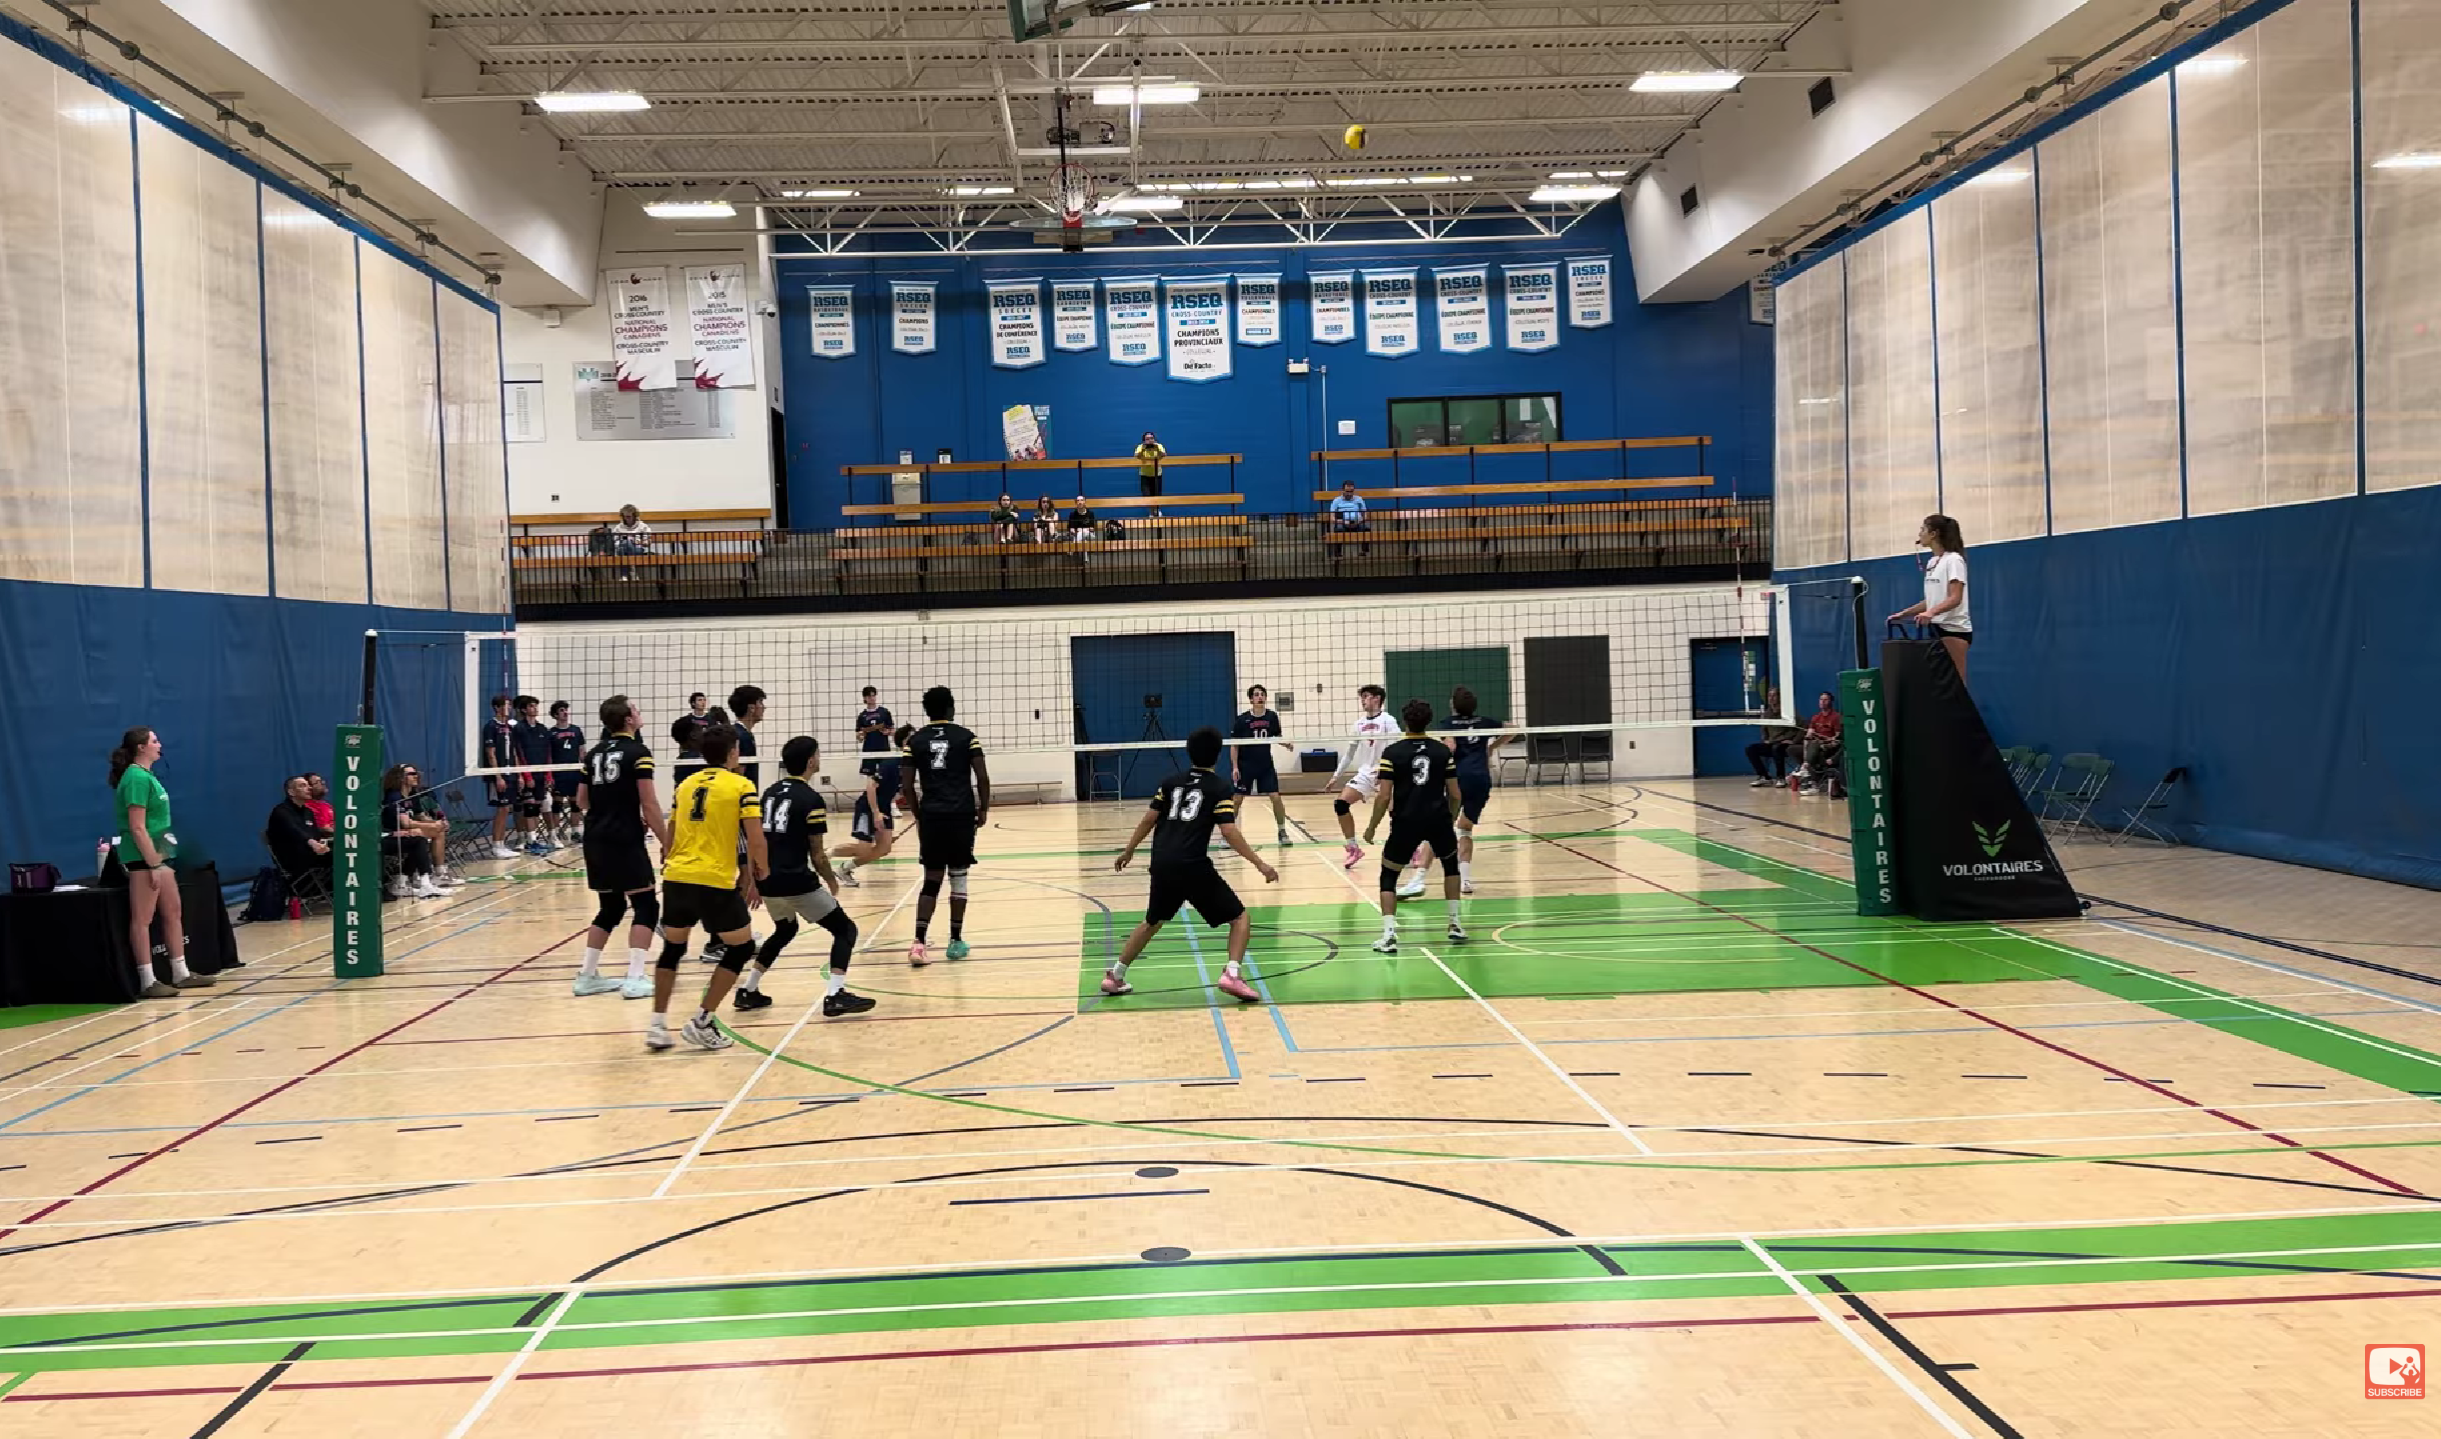Ball: (1343, 123, 1370, 151)
